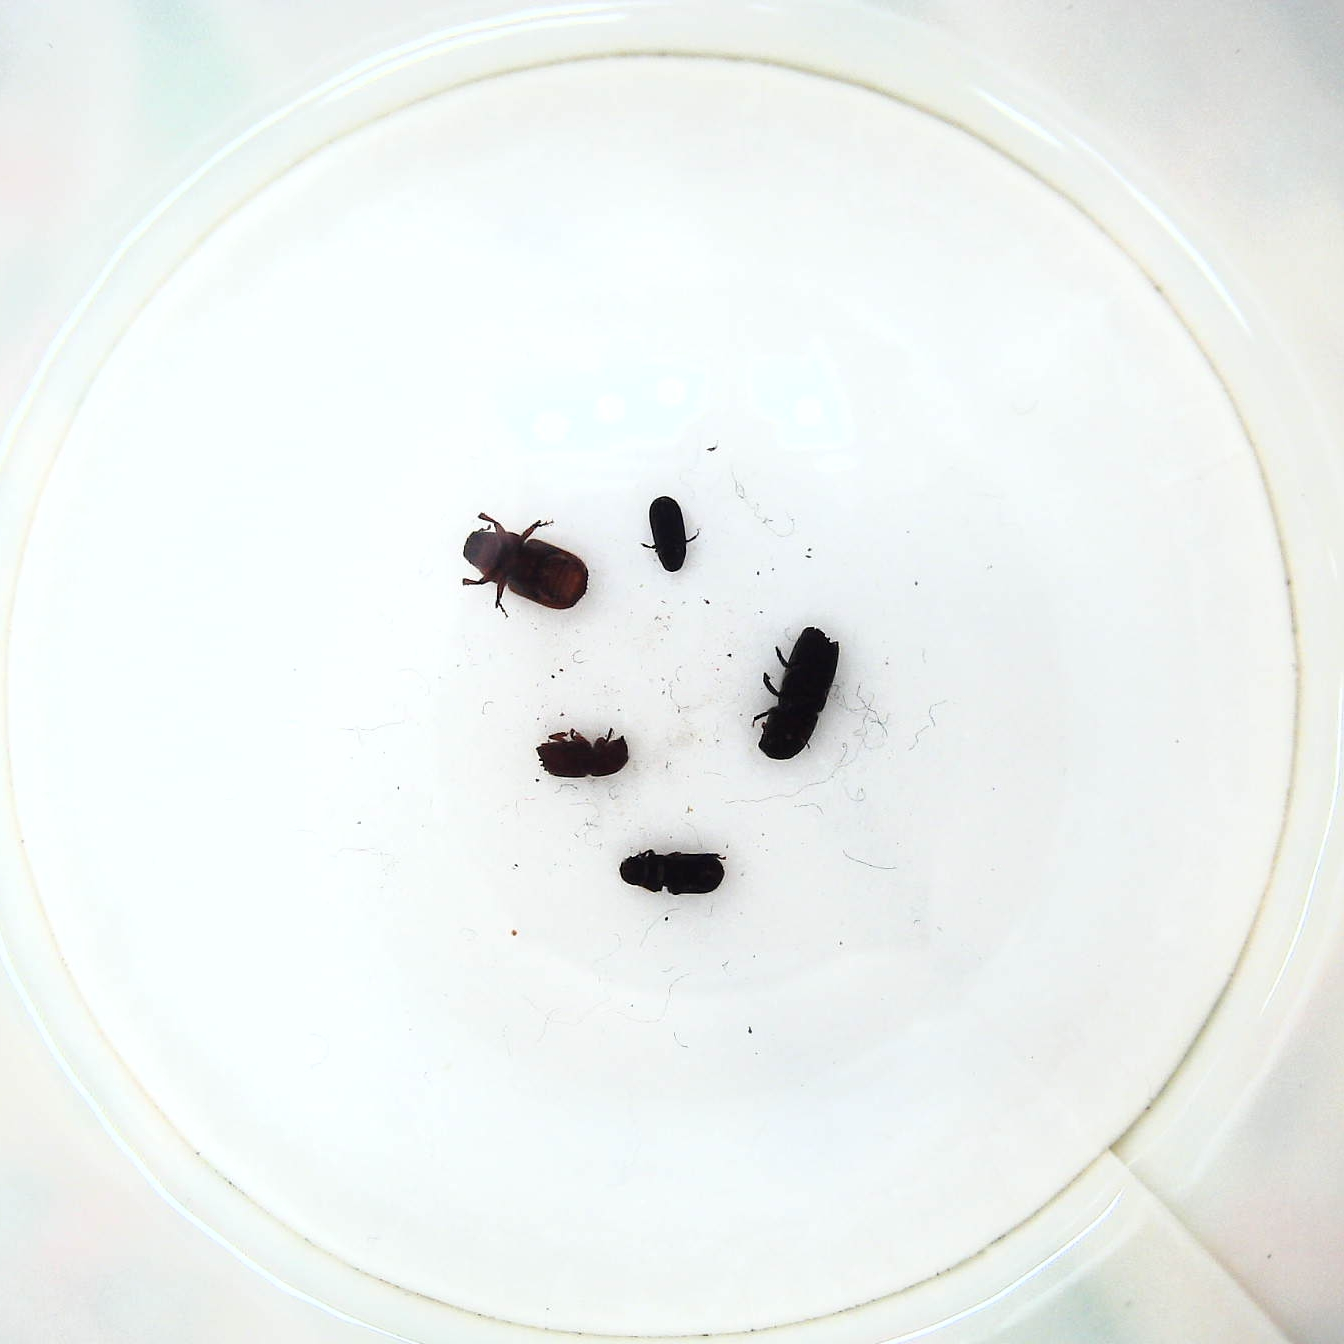Boerner: (751, 625, 844, 764)
Leconte: (453, 510, 594, 625)
armandi: (612, 847, 736, 903)
coleoptera: (644, 491, 700, 581)
linnaeus: (537, 725, 631, 788)
